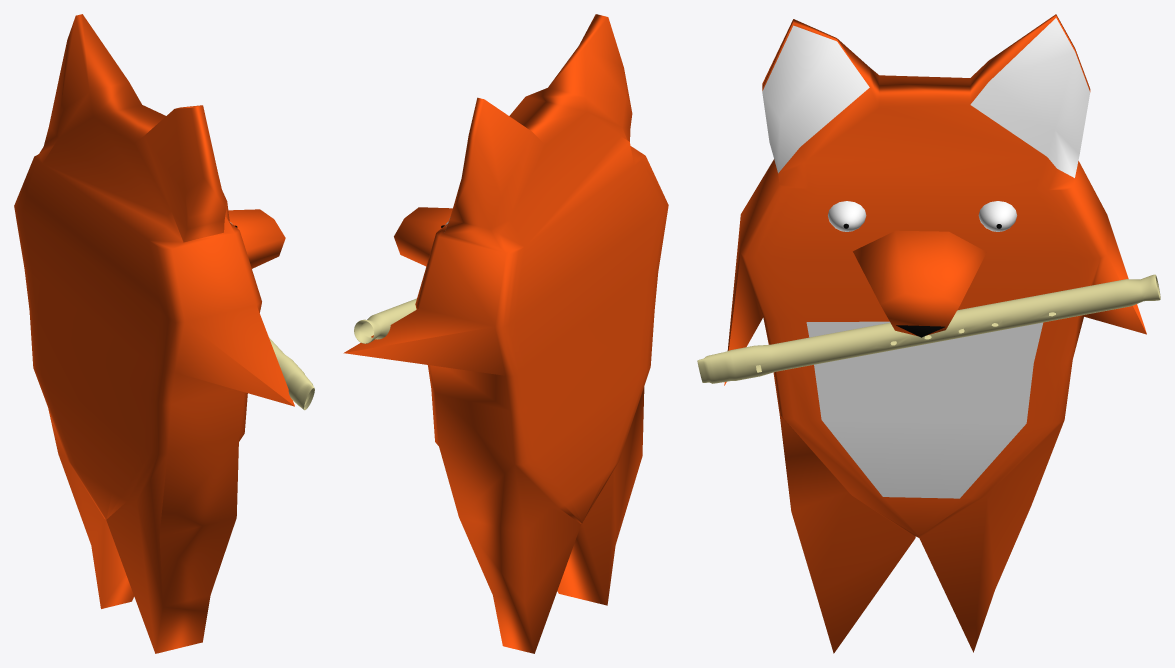
The model's file is fox.fbx.
3 renders of one model, left to right at view 1: azimuth 30°, elevation 25°; view 2: azimuth 150°, elevation 25°; view 3: azimuth 270°, elevation 25°, orthographic. The views are drawn at different scales.
Parts seen in each view (by area): view 1: Cube, Cube.002, Cylinder.004; view 2: Cube, Cube.002, Cylinder.004; view 3: Cube, Cylinder.004, Cube.002, Sphere.006, Sphere.001.
Part boxes in pixels (box(x1,y1,x2,y2)): Cube: box(14, 14, 294, 653); Cube.002: box(228, 209, 285, 268); Cylinder.004: box(269, 337, 314, 410); Cube: box(343, 14, 668, 653); Cube.002: box(394, 207, 452, 266); Cylinder.004: box(354, 298, 416, 343); Cube: box(724, 14, 1146, 653); Cylinder.004: box(697, 274, 1160, 383); Cube.002: box(853, 230, 986, 336); Sphere.006: box(978, 201, 1017, 231); Sphere.001: box(828, 201, 866, 231).
Bounding box in the file's own units: 122 × 378 × 252.
